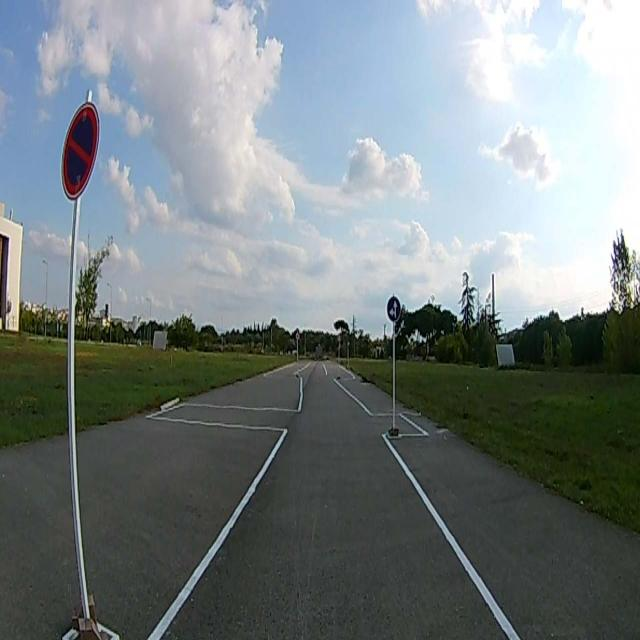ilerisol: (386, 295, 401, 322)
parkyasak: (62, 103, 98, 197)
